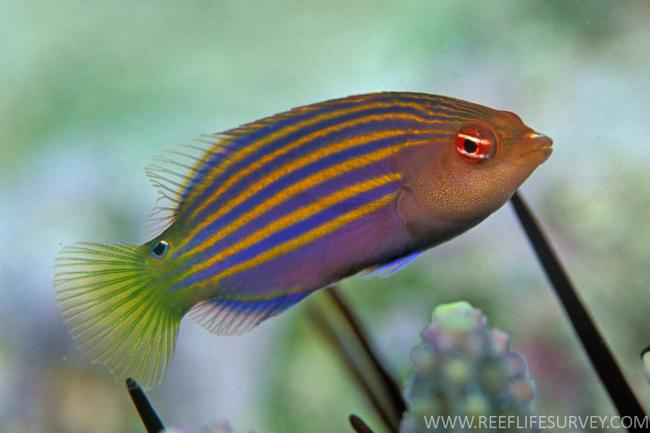fish: (52, 91, 553, 388)
